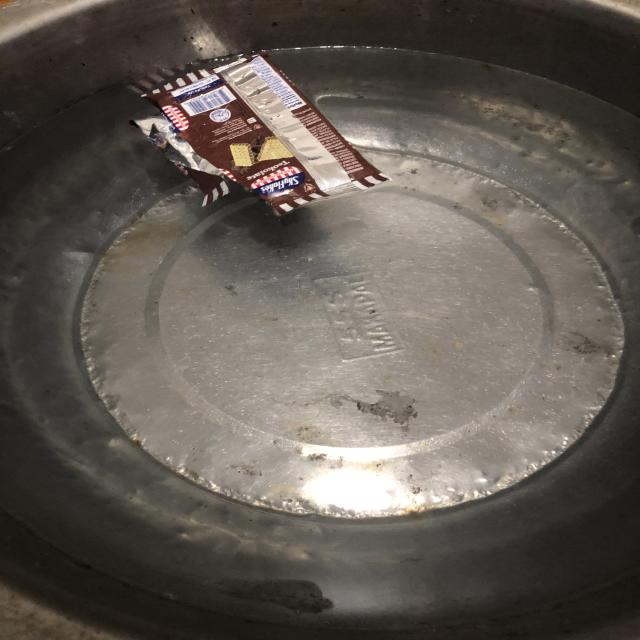Plastic Wrapper: (106, 34, 400, 242)
